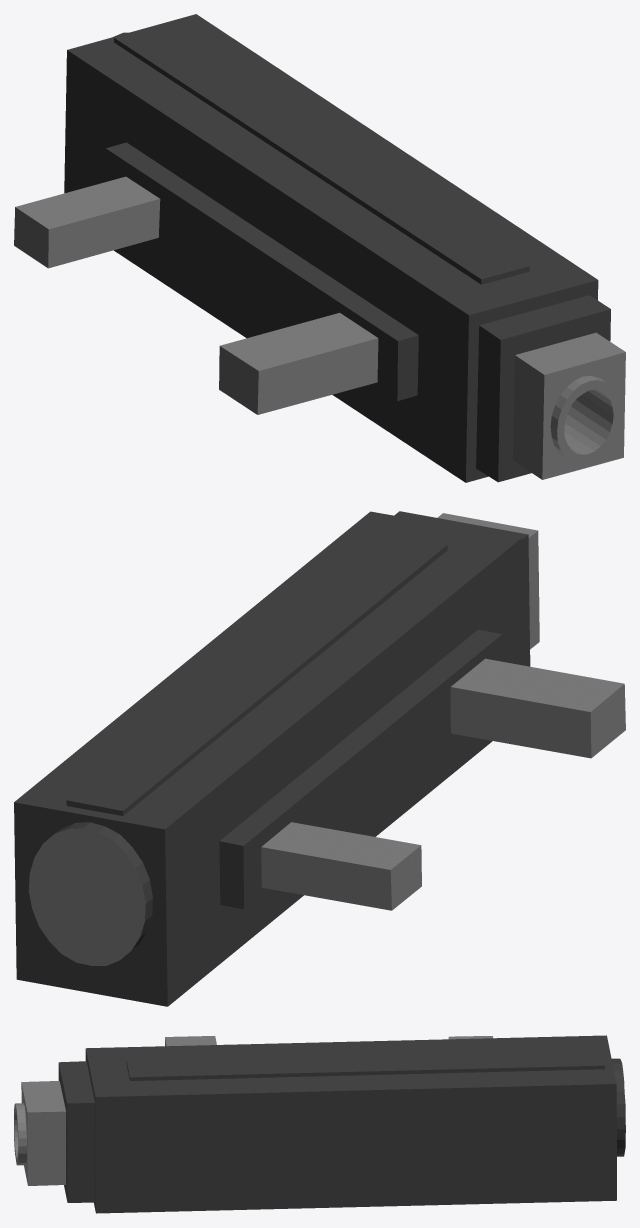
Rendered from laser.obj.
3 views of the same model, one above another, from view 1: azimuth 30°, elevation 25°; view 2: azimuth 150°, elevation 25°; view 3: azimuth 270°, elevation 25° (orthographic). The views are drawn at different scales.
Parts seen in each view (by area): view 1: Laser; view 2: Laser; view 3: Laser.
Boxes of the visible parts, x1,y1,x2,y2 form: Laser: [14, 14, 625, 482]; Laser: [14, 511, 625, 1006]; Laser: [14, 1035, 625, 1213].
Size of the model in its own units: 0.0528 by 0.0294 by 0.1314.
